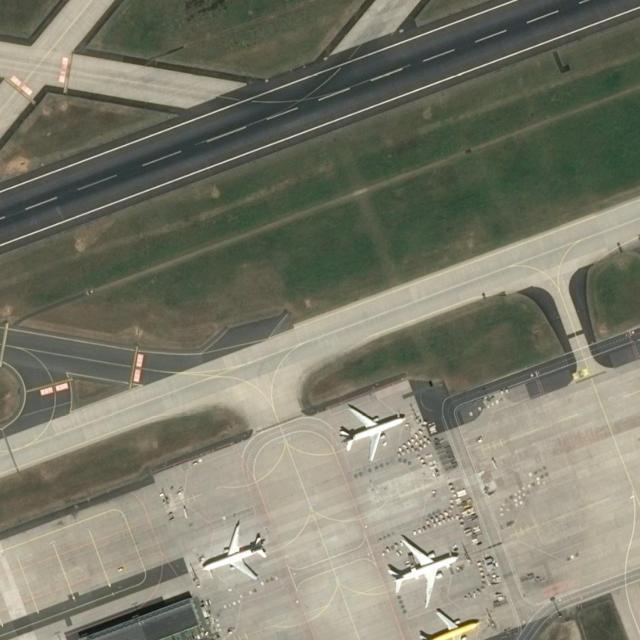Aircraft: (386, 537, 462, 603), (198, 523, 272, 585), (334, 403, 410, 463), (417, 612, 487, 640)
